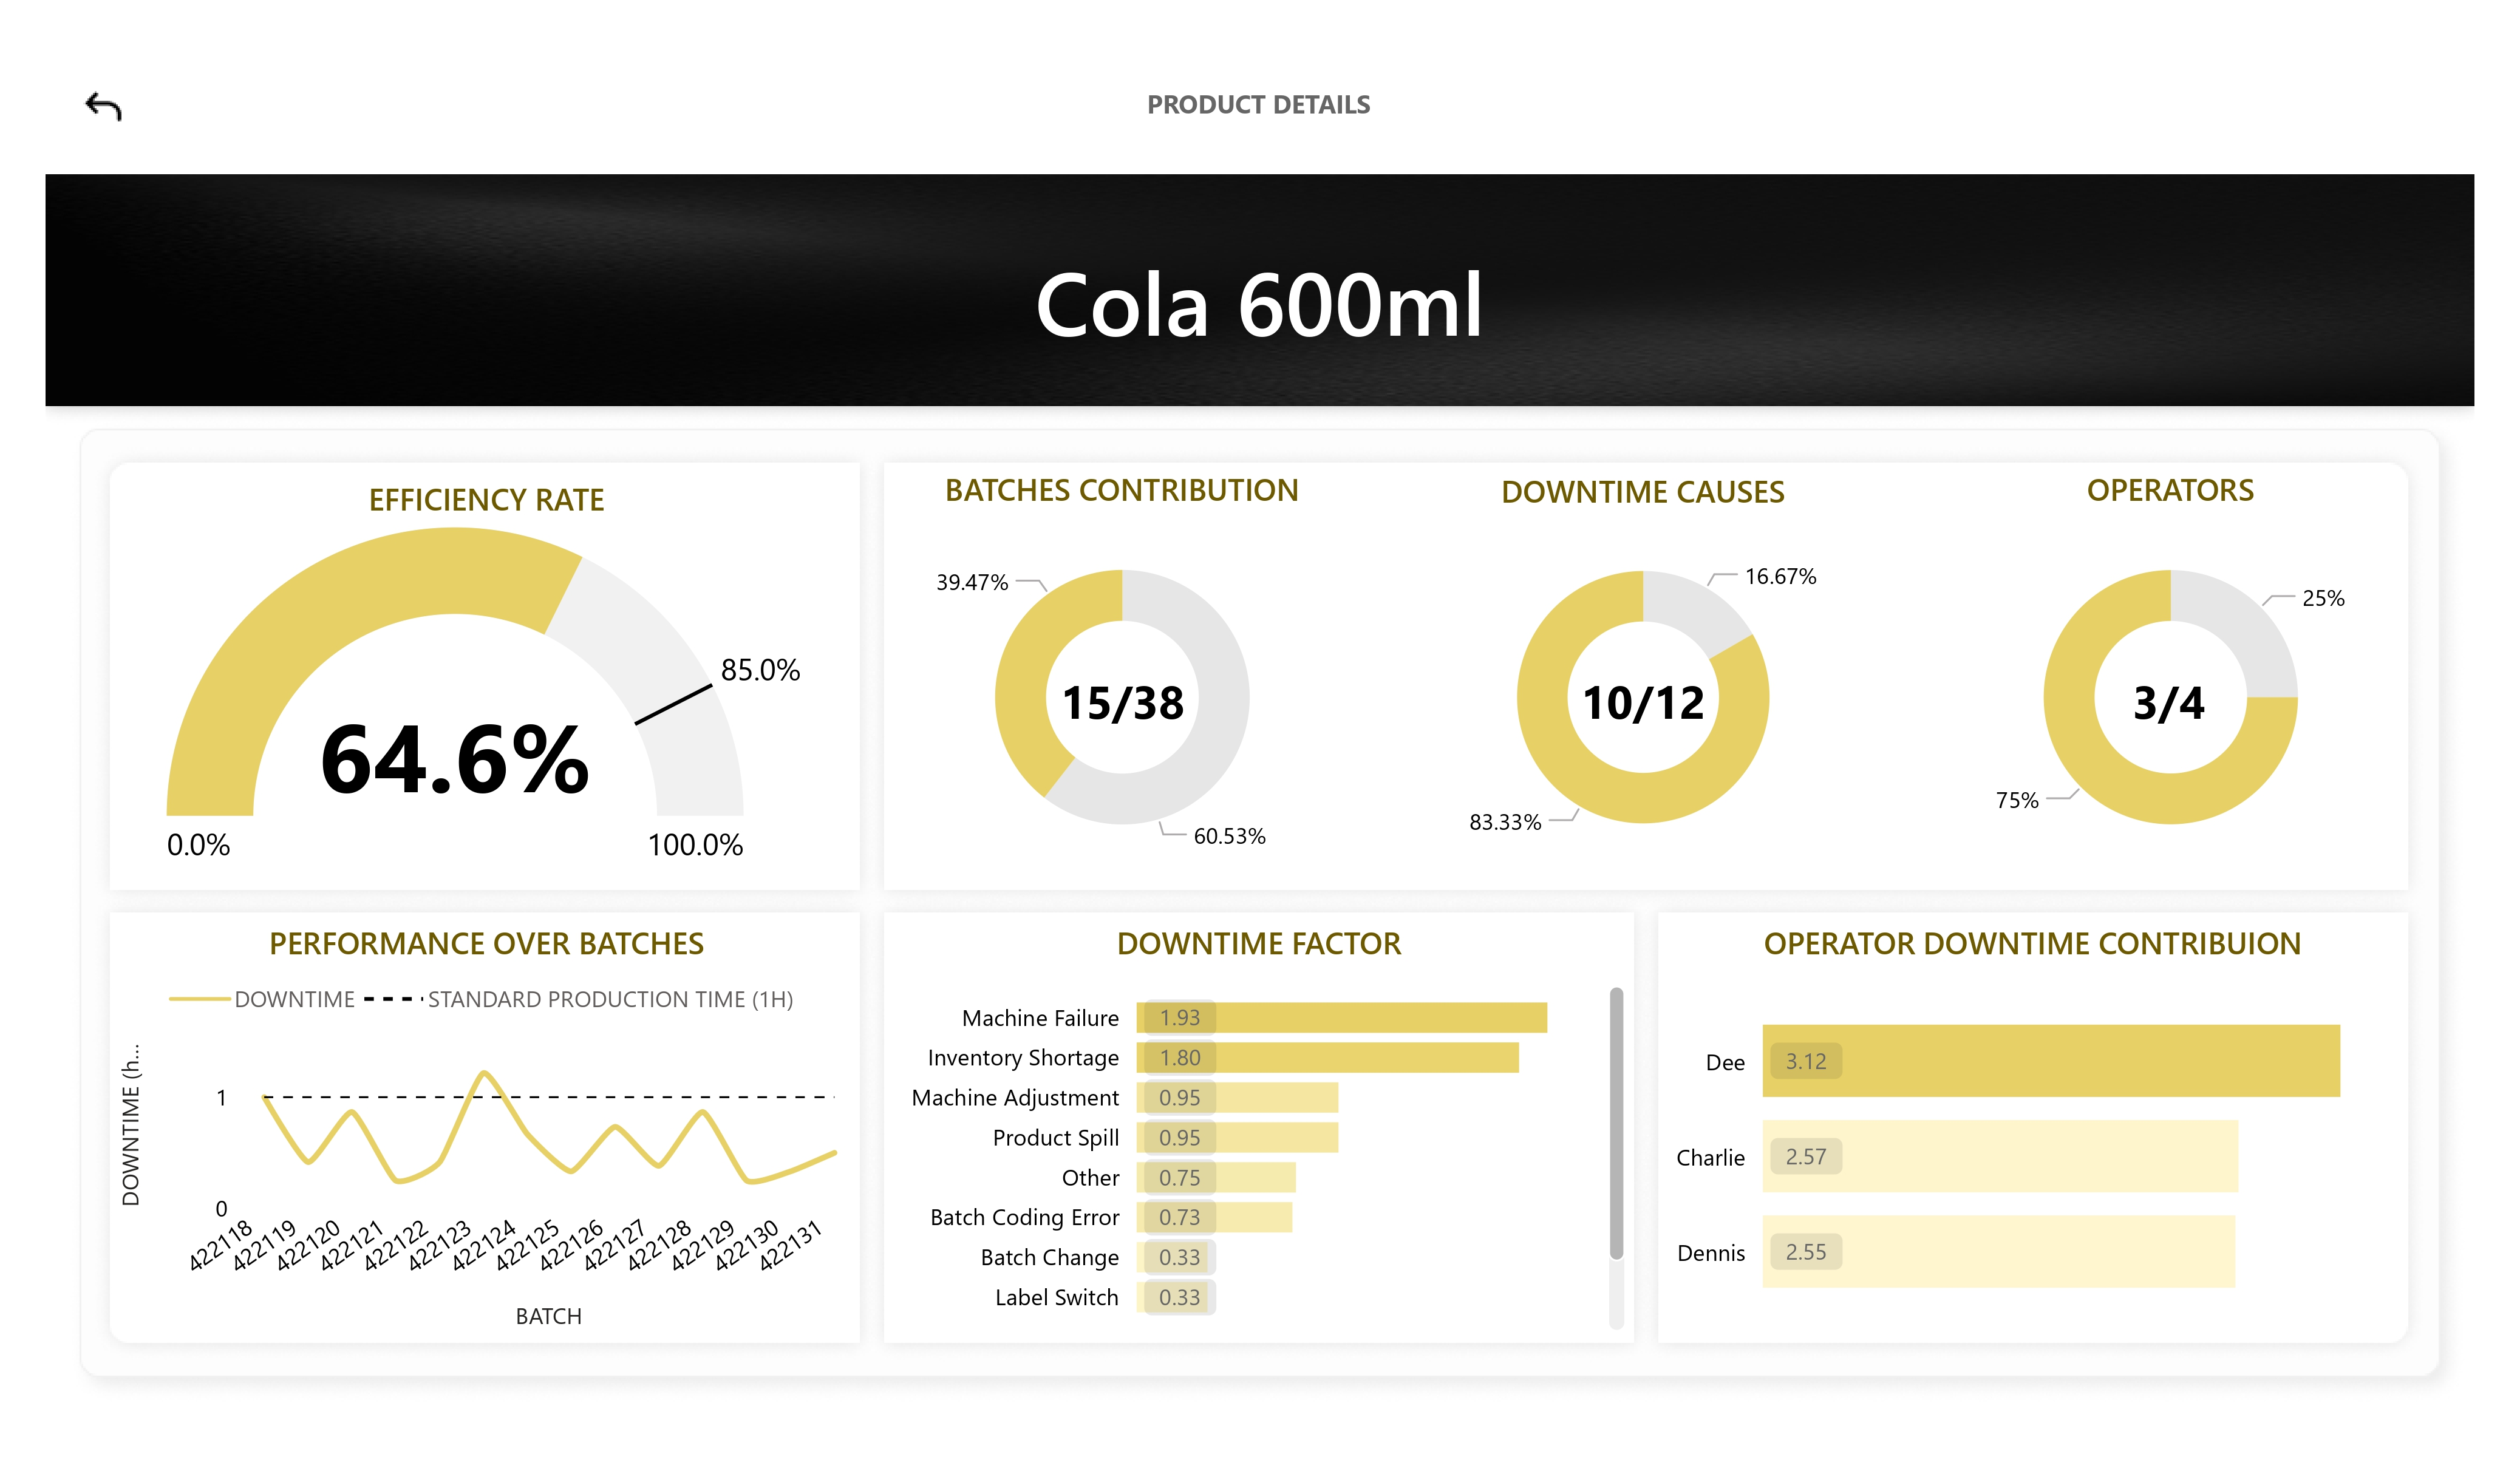

Layout of this report page (visuals, bound fields, positions):
{"tool":"powerbi","page":{"name":"Product Drill Through","canvas":[1280,720],"ordinal":3},"visuals":[{"type":"actionButton","box":[5.3,8.9,49.7,49.7],"z":0},{"type":"textbox","box":[437.1,16.8,405.2,32.8],"z":1000},{"type":"gauge","title":"EFFICIENCY RATE","fields":{"Y":["_Measures.Overall Line Efficiency (%)"]},"box":[35.5,223.4,394.6,219],"z":2000},{"type":"lineChart","title":"PERFORMANCE OVER BATCHES","fields":{"Category":["fLineDowntime.Batch"],"Y":["_Measures.Total Downtime (H)","_Measures.Net Operating Time (H)"]},"box":[35.5,462,394.6,219.9],"z":3000},{"type":"cardVisual","fields":{"Data":["Min(dProducts.Product Name)"]},"box":[292.2,68,695.6,123],"z":4000},{"type":"clusteredBarChart","title":"OPERATOR DOWNTIME CONTRIBUION","fields":{"Category":["dOperators.Operator"],"Y":["_Measures.Total Downtime (H)"]},"box":[850.3,462,394.6,219.9],"z":5000},{"type":"clusteredBarChart","title":"DOWNTIME FACTOR","fields":{"Category":["dDowntimeFactors.Description"],"Y":["_Measures.Total Downtime (H)"]},"box":[442.5,462,395,219.9],"z":6000},{"type":"cardVisual","fields":{"Data":["_Product Details.PD A/T Operators"]},"box":[994.4,237.6,249.6,205.7],"z":7000},{"type":"cardVisual","fields":{"Data":["_Product Details.PD A/T Factors"]},"box":[716.9,238.6,250.6,203.7],"z":8000},{"type":"cardVisual","fields":{"Data":["_Product Details.PD A/T Batches"]},"box":[442.3,237.6,250.6,205.7],"z":9000},{"type":"donutChart","title":"OPERATORS","fields":{"Y":["_Product Details.PD Other Operators","_Product Details.PD Affected Operators"]},"box":[994.9,223.4,250,219.9],"z":10000},{"type":"donutChart","title":"DOWNTIME CAUSES","fields":{"Y":["_Product Details.PD Other Factors","_Product Details.PD Affected Factors"]},"box":[716.9,223.7,250.6,218.7],"z":11000},{"type":"donutChart","title":"BATCHES CONTRIBUTION","fields":{"Y":["_Product Details.PD Other Batches","_Product Details.PD Affected Batches"]},"box":[442.5,223.4,250,219.9],"z":12000}]}

Visuals, with their boxes on the page's 1280x720 design canvas (x1, y1, x2, y2). These are canvas units, not pixel positions in the 2520x1457 screenshot, which may show the page scaled, cropped or inside an application window:
actionButton: detection(5, 9, 55, 59)
textbox: detection(437, 17, 842, 50)
"EFFICIENCY RATE" gauge: detection(36, 223, 430, 442)
"PERFORMANCE OVER BATCHES" lineChart: detection(36, 462, 430, 682)
cardVisual - Min(dProducts.Product Name): detection(292, 68, 988, 191)
"OPERATOR DOWNTIME CONTRIBUION" clusteredBarChart: detection(850, 462, 1245, 682)
"DOWNTIME FACTOR" clusteredBarChart: detection(442, 462, 838, 682)
cardVisual - _Product Details.PD A/T Operators: detection(994, 238, 1244, 443)
cardVisual - _Product Details.PD A/T Factors: detection(717, 239, 968, 442)
cardVisual - _Product Details.PD A/T Batches: detection(442, 238, 693, 443)
"OPERATORS" donutChart: detection(995, 223, 1245, 443)
"DOWNTIME CAUSES" donutChart: detection(717, 224, 968, 442)
"BATCHES CONTRIBUTION" donutChart: detection(442, 223, 692, 443)
